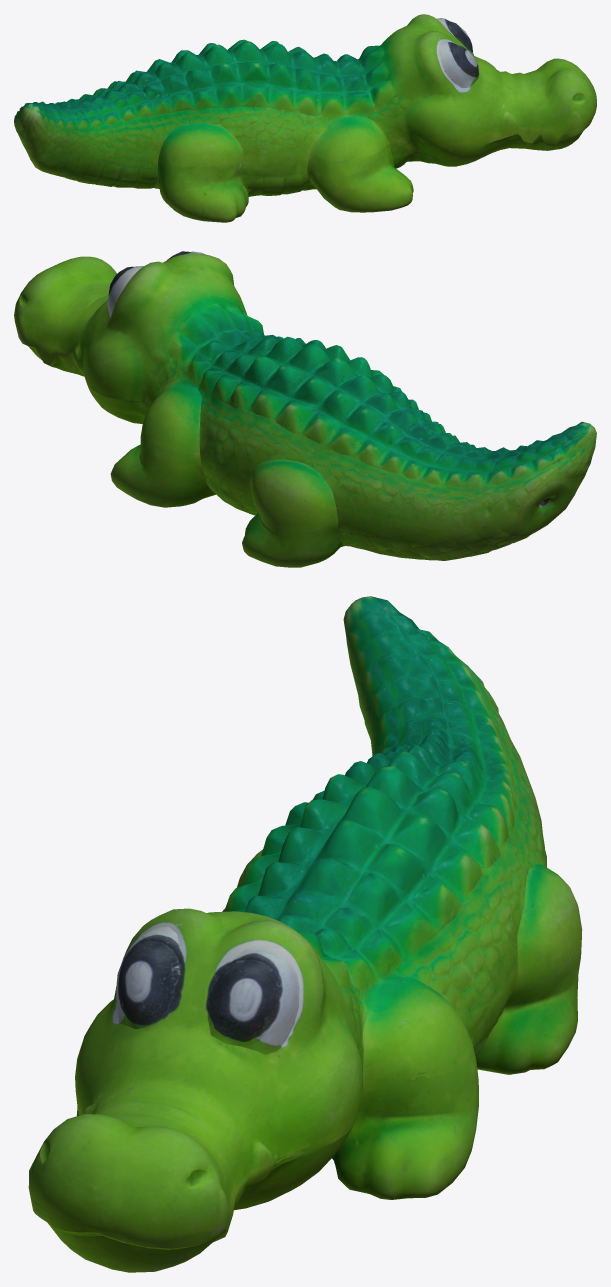
The model's file is crocodile_dog_toy_3d_scan.glb.
3 renders of one model, top to bottom at view 1: azimuth 30°, elevation 25°; view 2: azimuth 150°, elevation 25°; view 3: azimuth 270°, elevation 25°, orthographic. The views are drawn at different scales.
Visible parts, largest first — view 1: 1_1_1_10_0; view 2: 1_1_1_10_0; view 3: 1_1_1_10_0.
Boxes of the visible parts, box(x1,y1,x2,y2) form: 1_1_1_10_0: box(14, 14, 596, 222); 1_1_1_10_0: box(14, 251, 596, 567); 1_1_1_10_0: box(28, 596, 582, 1272).
Size of the model in its own units: 18.64 by 5.05 by 8.74.
Materials: 1 (1 with a texture image).
